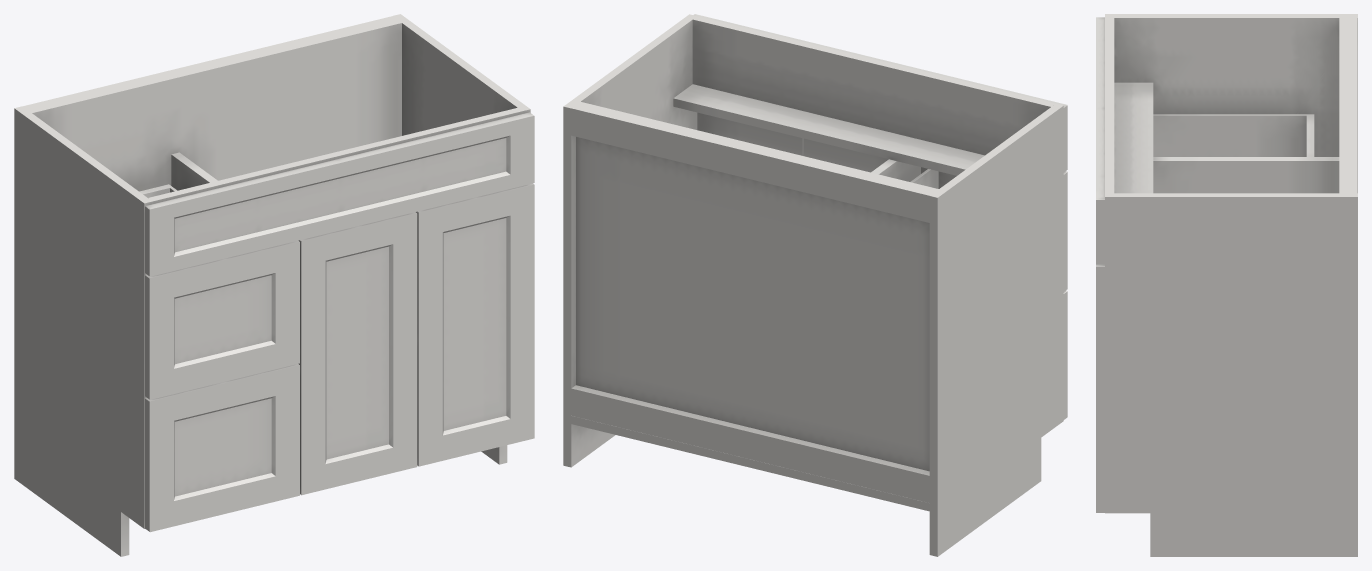
Rendered from 2-door-2-drawer-vanity-doors-on.glb.
3 renders of one model, left to right at view 1: azimuth 30°, elevation 25°; view 2: azimuth 150°, elevation 25°; view 3: azimuth 270°, elevation 25°, orthographic. The views are drawn at different scales.
Visible parts, largest first — view 1: part_10, part_0; view 2: part_0, part_10; view 3: part_0, part_9, part_10.
Boxes of the visible parts, x1,y1,x2,y2 form: part_10: [145, 112, 534, 532]; part_0: [14, 14, 530, 556]; part_0: [563, 14, 1063, 556]; part_10: [693, 14, 1067, 419]; part_0: [1105, 14, 1357, 556]; part_9: [1153, 114, 1314, 156]; part_10: [1096, 17, 1104, 512].
Bounding box in the file's own units: 0.9144 × 0.8383 × 0.5525.
Materials: 3 (2 with a texture image).
